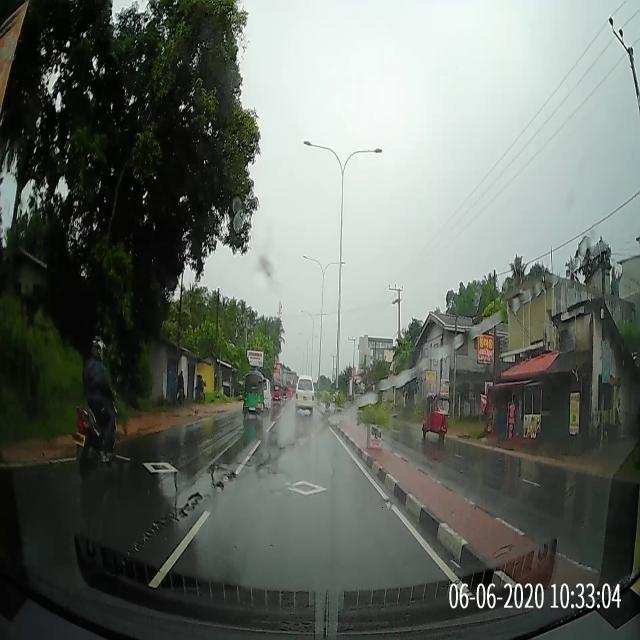diamond: (224, 475, 404, 513)
